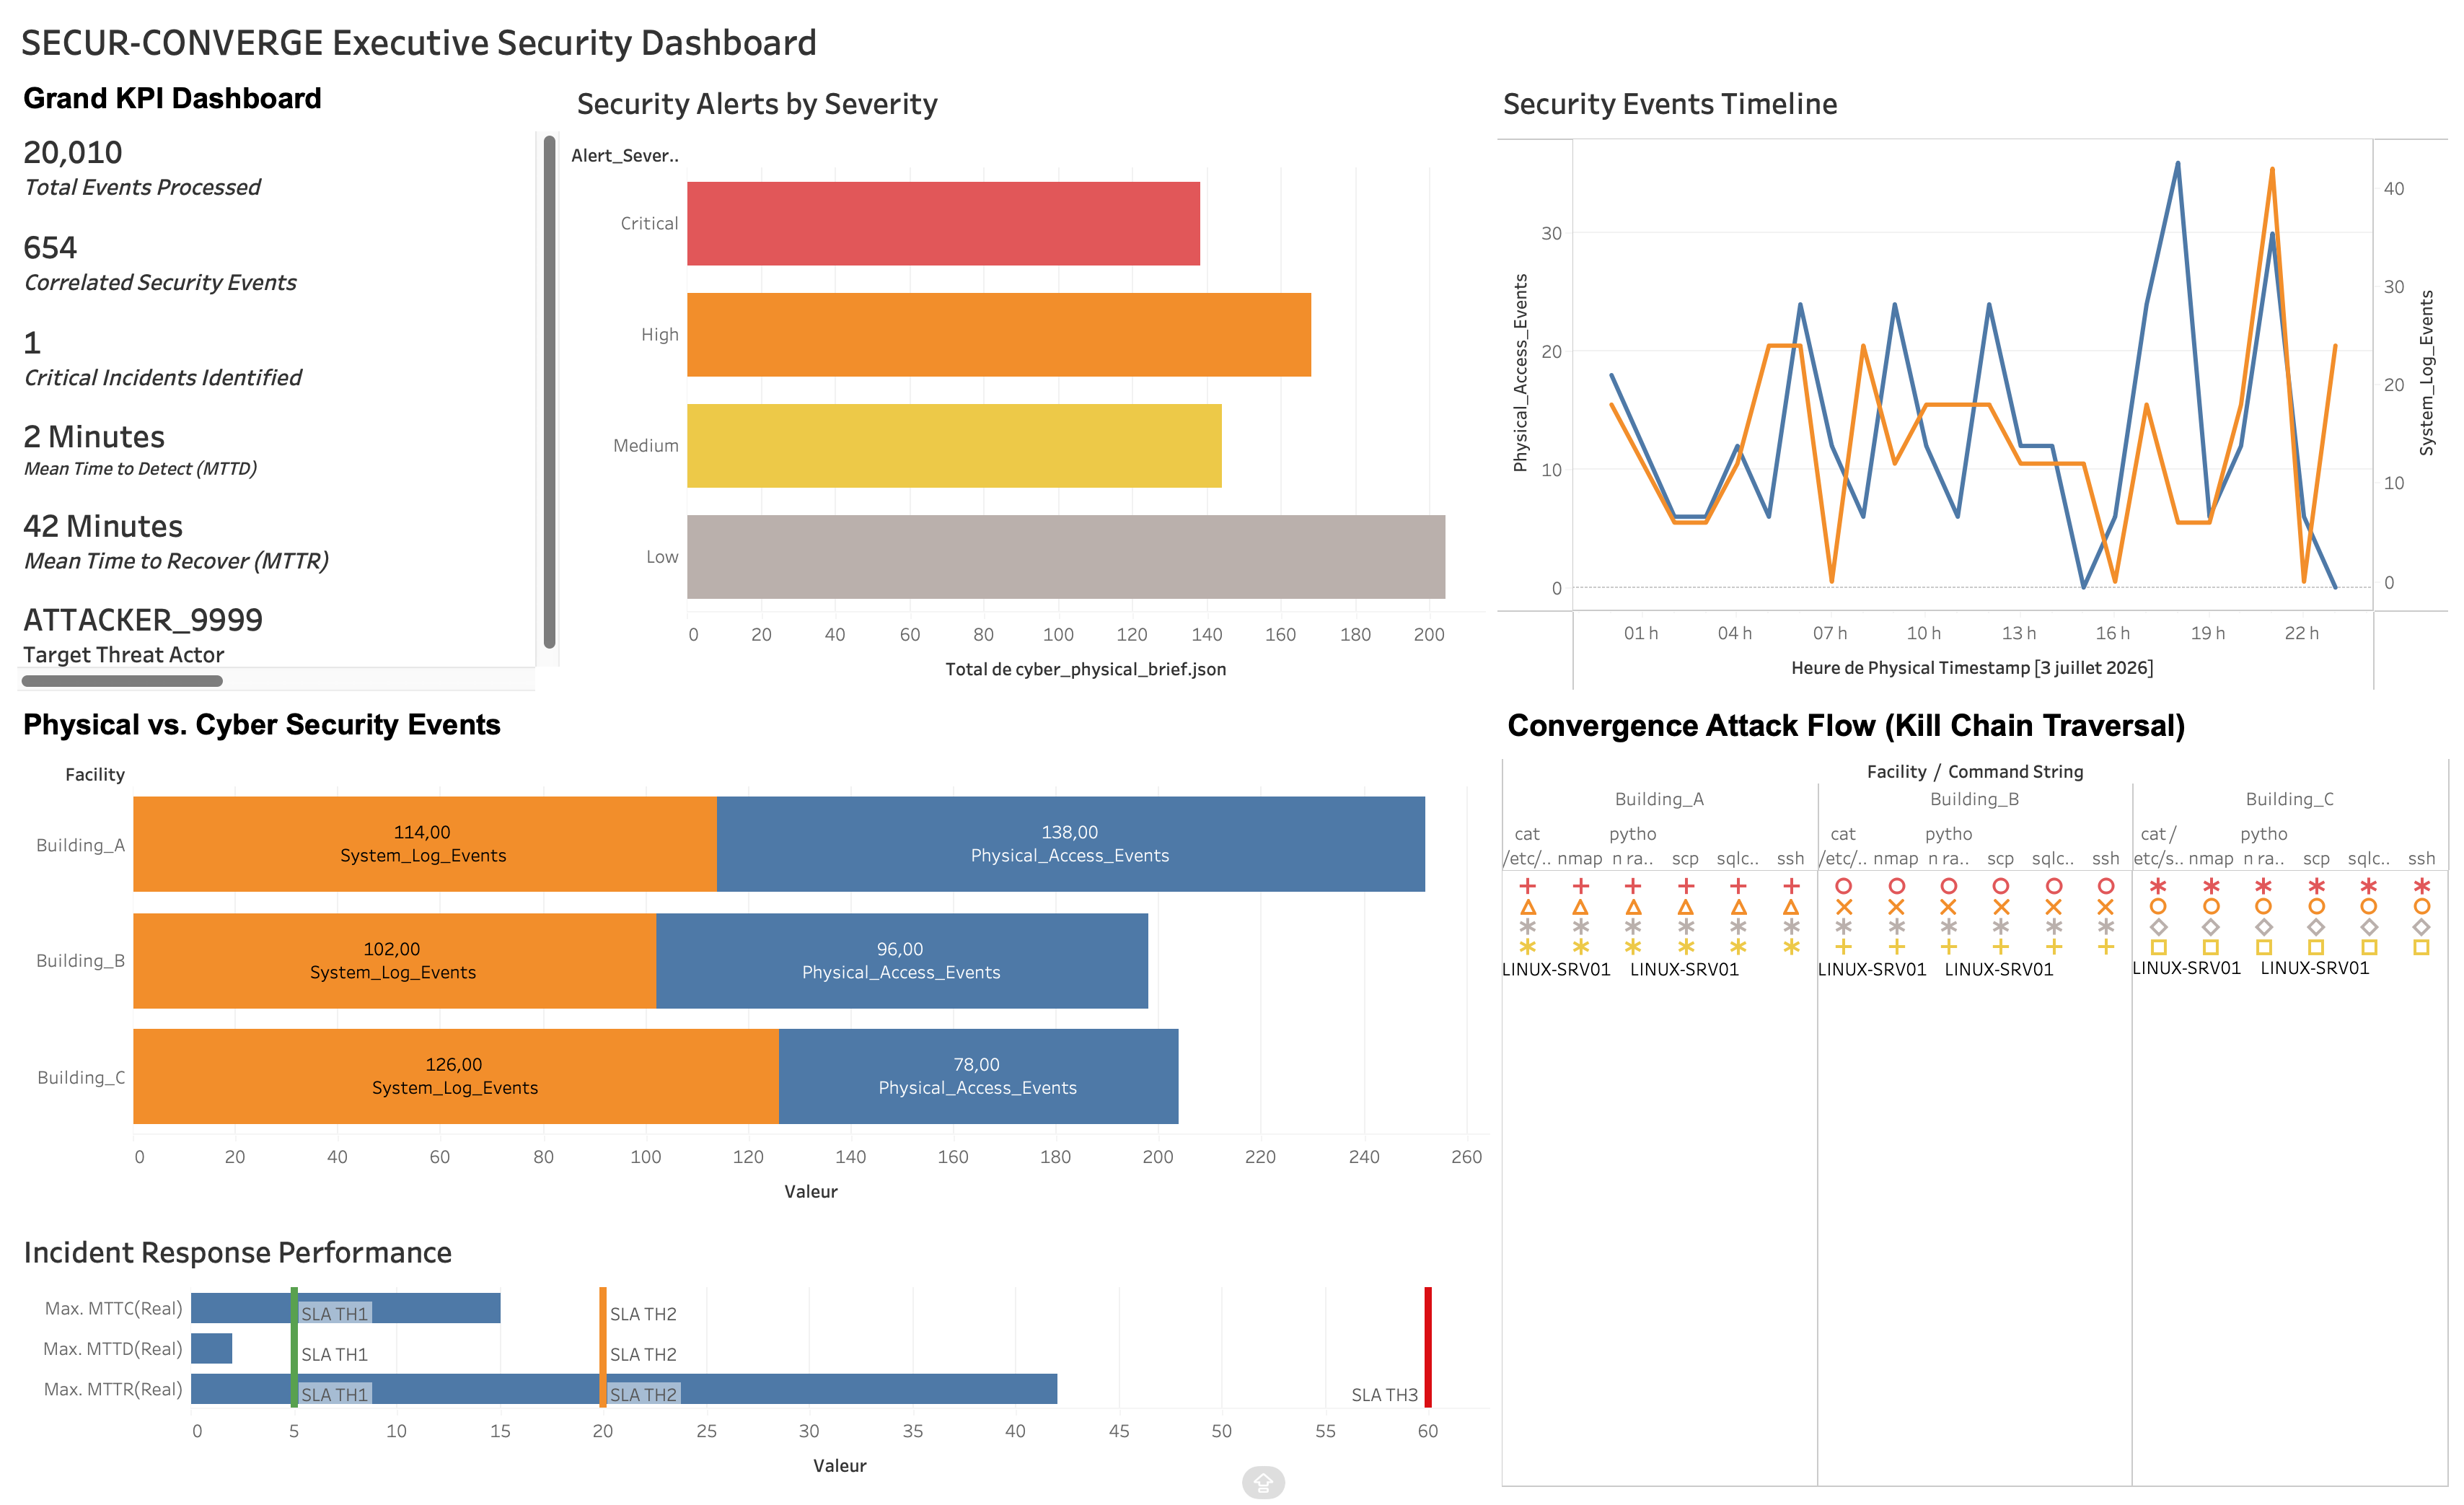

The dashboard page shown, as its layout file describes it:
{"tool":"tableau","page":{"name":"SECUR-CONVERGE Executive Deck","canvas":[1000,1000],"units":"permille","ordinal":0},"visuals":[{"type":"title","box":[5.6,8.9,988.8,45.6]},{"type":"worksheet","title":"Grand KPI Dashboard","mark":"Automatic","box":[5.6,54.5,269.9,412.7]},{"type":"worksheet","title":"Incident Severity Distribution ","mark":"Automatic","rows":["Calculation_0640006295838720"],"cols":["cyber_physical_brief.json_6032D3F324D64684BB7F89542A6939F0"],"box":[275.5,54.5,350.3,412.7]},{"type":"worksheet","title":"Event Timeline","mark":"Line","rows":["Calculation_0640006305849345","Calculation_0640006308651010"],"cols":["physical_timestamp"],"box":[625.8,54.5,368.6,412.7]},{"type":"worksheet","title":"Telemetry Convergence Ratio","mark":"Bar","rows":["facility"],"box":[5.6,467.2,600.9,343.7]},{"type":"worksheet","title":"Convergence Attack Flow","mark":"Shape","cols":["facility","command_string"],"box":[606.5,467.2,387.9,523.9]},{"type":"worksheet","title":"SLA Performance","mark":"Automatic","box":[5.6,810.9,600.9,180.2]}]}

Visuals, with their boxes on the dashboard's canvas, which has no fixed pixel size, in thousandths of its width and height (x1, y1, x2, y2). These are canvas units, not pixel positions in the 2464x1505 screenshot, which may show the page scaled, cropped or inside an application window:
title: 6,9,994,54
"Grand KPI Dashboard" worksheet: 6,54,276,467
"Incident Severity Distribution " worksheet: 276,54,626,467
"Event Timeline" worksheet (Line marks): 626,54,994,467
"Telemetry Convergence Ratio" worksheet (Bar marks): 6,467,606,811
"Convergence Attack Flow" worksheet (Shape marks): 606,467,994,991
"SLA Performance" worksheet: 6,811,606,991
